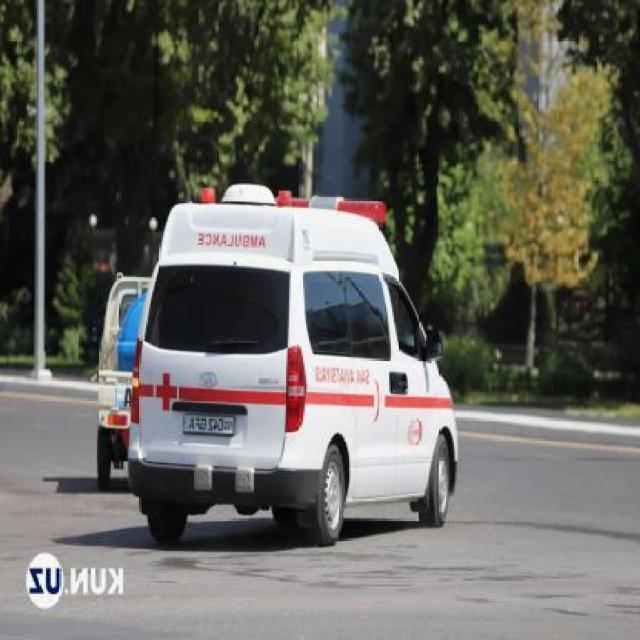emergency: (116, 183, 460, 547)
